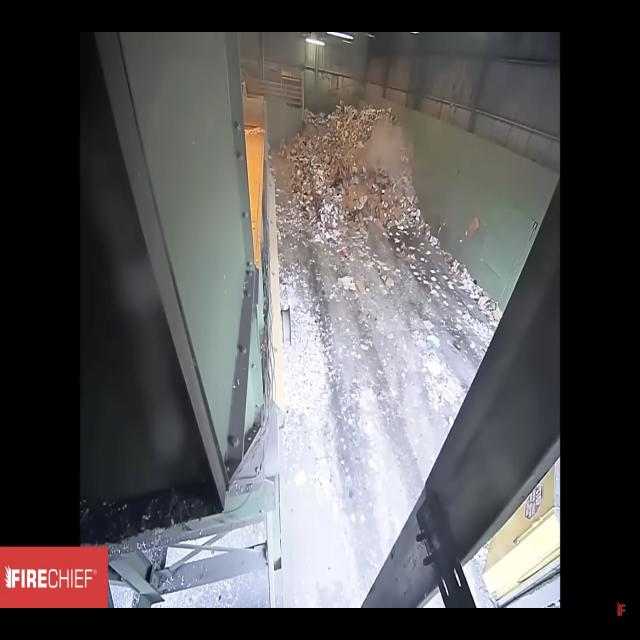Atencao: (344, 104, 426, 205)
Monitorando: (87, 38, 554, 492)
